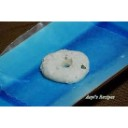vada: (41, 49, 92, 84)
